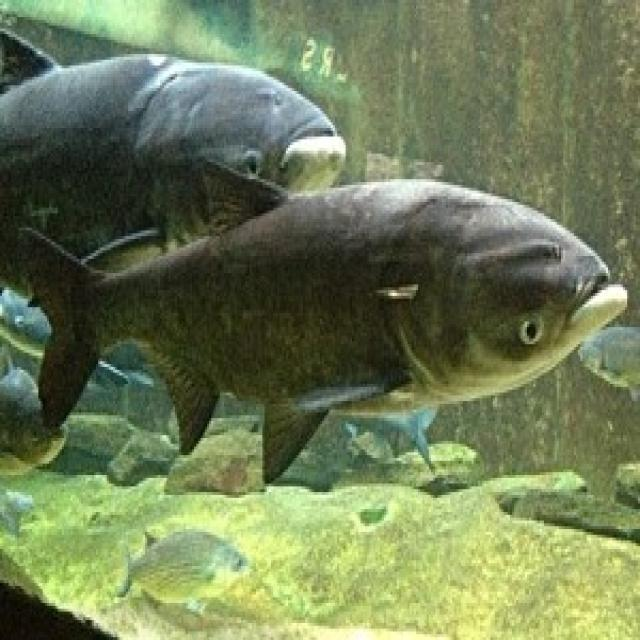Big-Head-Carp: (6, 20, 636, 516), (186, 102, 634, 420), (0, 6, 567, 75), (573, 75, 628, 100)
